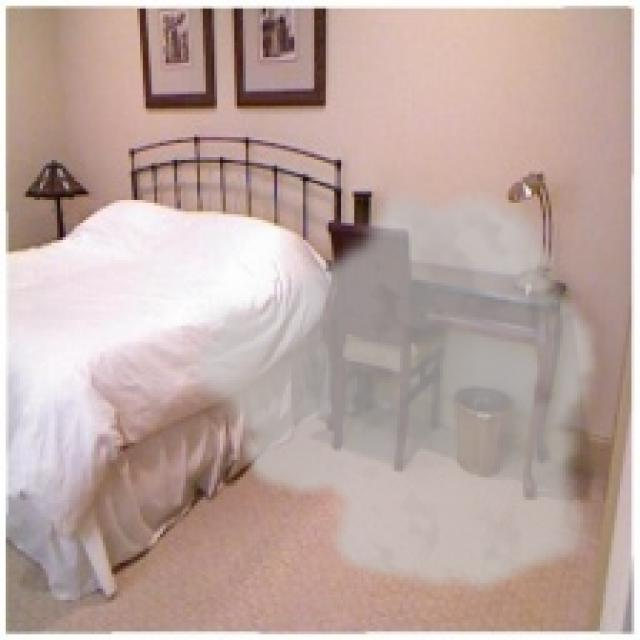smoke: (180, 177, 603, 597)
